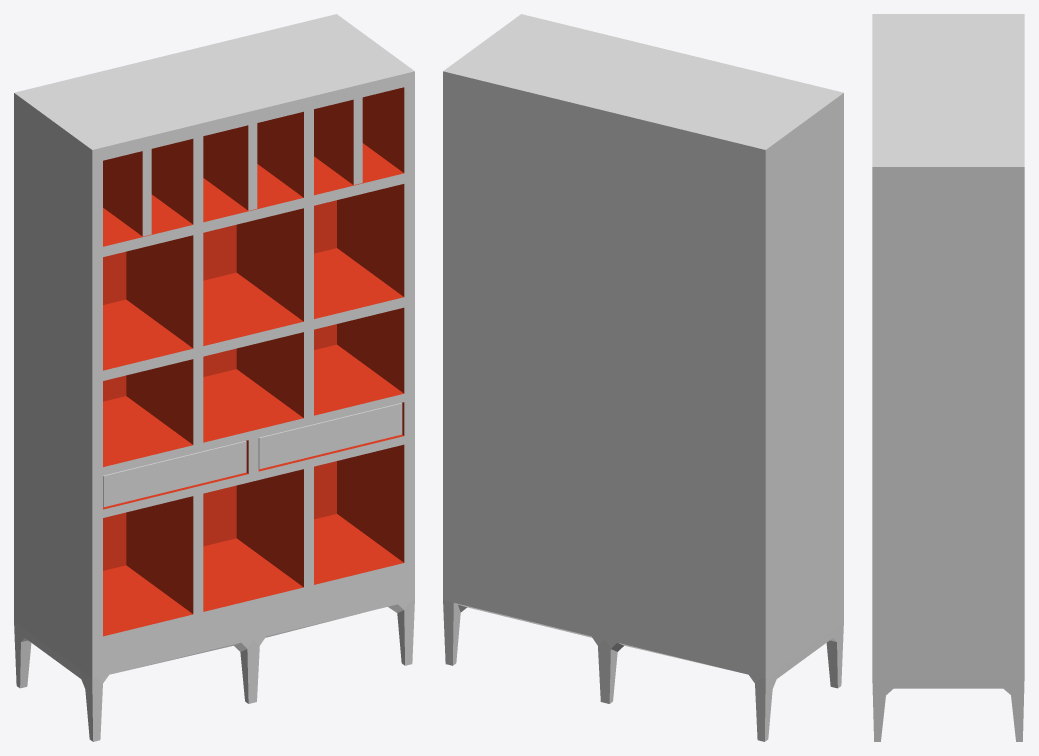
The model's file is Estanteriarojiblanca_normal.fbx.
3 views of the same model, side by side, from view 1: azimuth 30°, elevation 25°; view 2: azimuth 150°, elevation 25°; view 3: azimuth 270°, elevation 25° (orthographic). The views are drawn at different scales.
Visible parts, largest first — view 1: Estanteria_rojiblanca_normal; view 2: Estanteria_rojiblanca_normal; view 3: Estanteria_rojiblanca_normal.
Part boxes in pixels (x1,y1,x2,y2): Estanteria_rojiblanca_normal: (14,14,414,741); Estanteria_rojiblanca_normal: (443,14,843,741); Estanteria_rojiblanca_normal: (872,14,1024,741).
Bounding box in the file's own units: 139 × 244 × 58.45.
